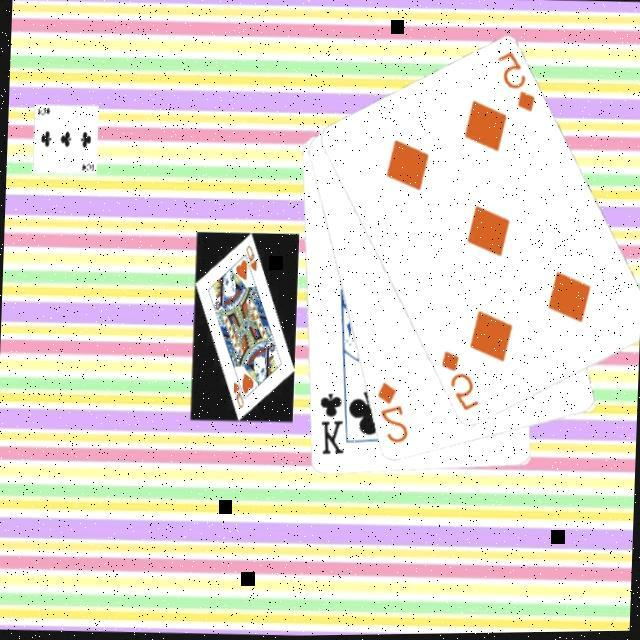2D: (370, 378, 410, 447)
5D: (434, 347, 482, 416), (489, 48, 537, 117)
KC: (311, 381, 352, 458)
